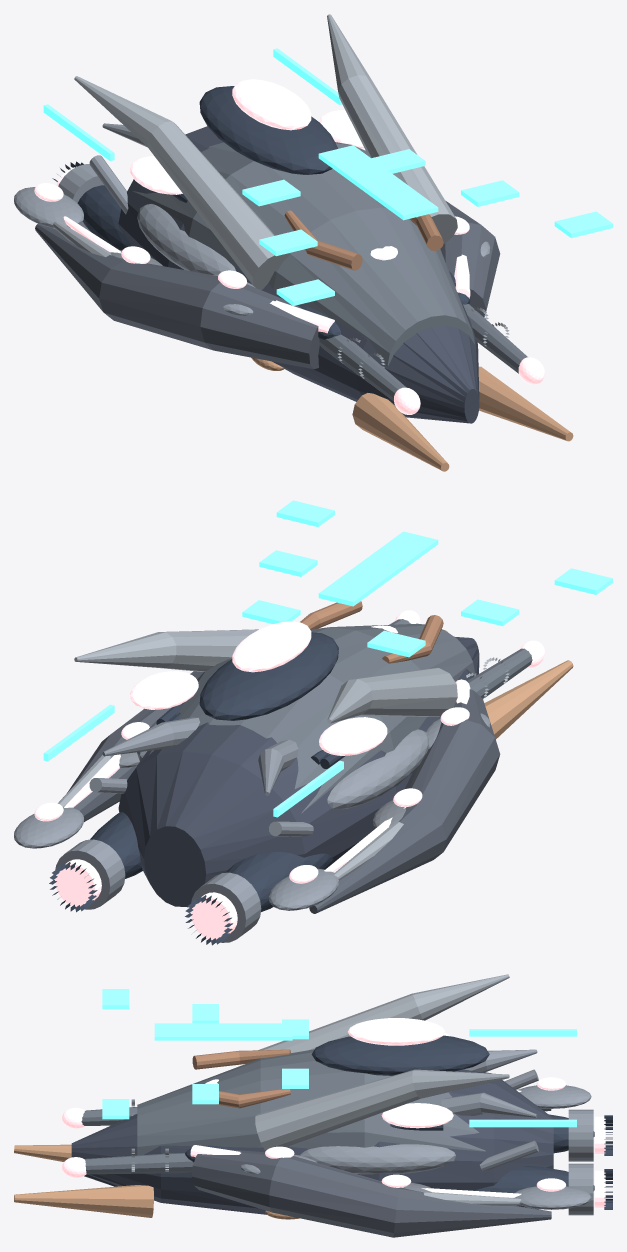
Rendered from npc_bossRiftScout.glb.
The picture shows the model from 3 angles, top to bottom: view 1: azimuth 30°, elevation 25°; view 2: azimuth 150°, elevation 25°; view 3: azimuth 270°, elevation 25°; orthographic projection. The views are drawn at different scales.
Visible parts, largest first — view 1: upper_armor_scar, armored_scythe_-1, keel_pressure_hull, V59 trim baked, prime_arch_back_-1, prime_arch_back_1, prime_reactor_tower, heavy_shield_pad_-1, prime_secondary_horn_-1, armored_scythe_1, prime_emitter, prime_secondary_horn_1 (+12 smaller); view 2: keel_pressure_hull, upper_armor_scar, armored_scythe_-1, V59 trim baked, prime_reactor_tower, prime_arch_back_-1, prime_arch_back_1, heavy_shield_pad_-1, prime_emitter, engine_armor_-1, prime_secondary_horn_-1, armored_scythe_1 (+18 smaller); view 3: armored_scythe_1, upper_armor_scar, keel_pressure_hull, V59 trim baked, prime_arch_back_1, prime_reactor_tower, prime_arch_back_-1, heavy_shield_pad_1, prime_secondary_horn_1, prime_emitter, long_plasma_cannon_1, predator_dorsal_fang_1 (+20 smaller).
Part boxes in pixels (box(x1,y1,x2,y2)): upper_armor_scar: box(133, 142, 474, 366); armored_scythe_-1: box(35, 224, 319, 369); keel_pressure_hull: box(118, 126, 479, 423); V59 trim baked: box(43, 48, 612, 305); prime_arch_back_-1: box(74, 76, 289, 289); prime_arch_back_1: box(327, 14, 457, 244); prime_reactor_tower: box(199, 86, 337, 174); heavy_shield_pad_-1: box(137, 204, 235, 274); prime_secondary_horn_-1: box(352, 393, 449, 471); armored_scythe_1: box(440, 200, 500, 317); prime_emitter: box(232, 79, 311, 130); prime_secondary_horn_1: box(478, 366, 573, 441); keel_pressure_hull: box(118, 636, 479, 907); upper_armor_scar: box(133, 623, 474, 813); armored_scythe_-1: box(309, 689, 500, 913); V59 trim baked: box(43, 500, 612, 817); prime_reactor_tower: box(199, 632, 338, 720); prime_arch_back_-1: box(327, 668, 457, 723); prime_arch_back_1: box(74, 629, 258, 671); heavy_shield_pad_-1: box(327, 729, 428, 809); prime_emitter: box(232, 621, 311, 672); engine_armor_-1: box(226, 852, 333, 911); prime_secondary_horn_-1: box(484, 660, 573, 739); armored_scythe_1: box(67, 671, 203, 821); armored_scythe_1: box(192, 1150, 551, 1237); upper_armor_scar: box(137, 1049, 485, 1155); keel_pressure_hull: box(71, 1069, 553, 1214); V59 trim baked: box(102, 989, 576, 1127); prime_arch_back_1: box(255, 1069, 509, 1150); prime_reactor_tower: box(311, 1035, 489, 1075); prime_arch_back_-1: box(258, 974, 509, 1052); heavy_shield_pad_1: box(300, 1144, 455, 1174); prime_secondary_horn_1: box(14, 1185, 153, 1217); prime_emitter: box(347, 1018, 444, 1045); long_plasma_cannon_1: box(84, 1153, 193, 1174); predator_dorsal_fang_1: box(440, 1092, 537, 1117).
Size of the model in its own units: 2.1 by 1.32 by 3.86.
